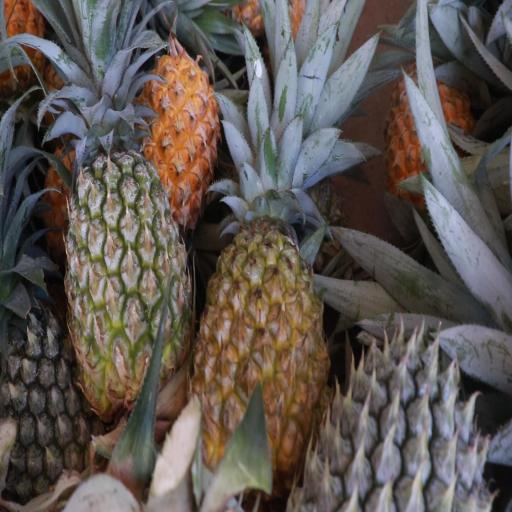------------------------------: (65, 146, 186, 399)
Pineapple - v8 v1: (197, 194, 324, 484), (68, 42, 214, 188), (386, 74, 468, 183)
